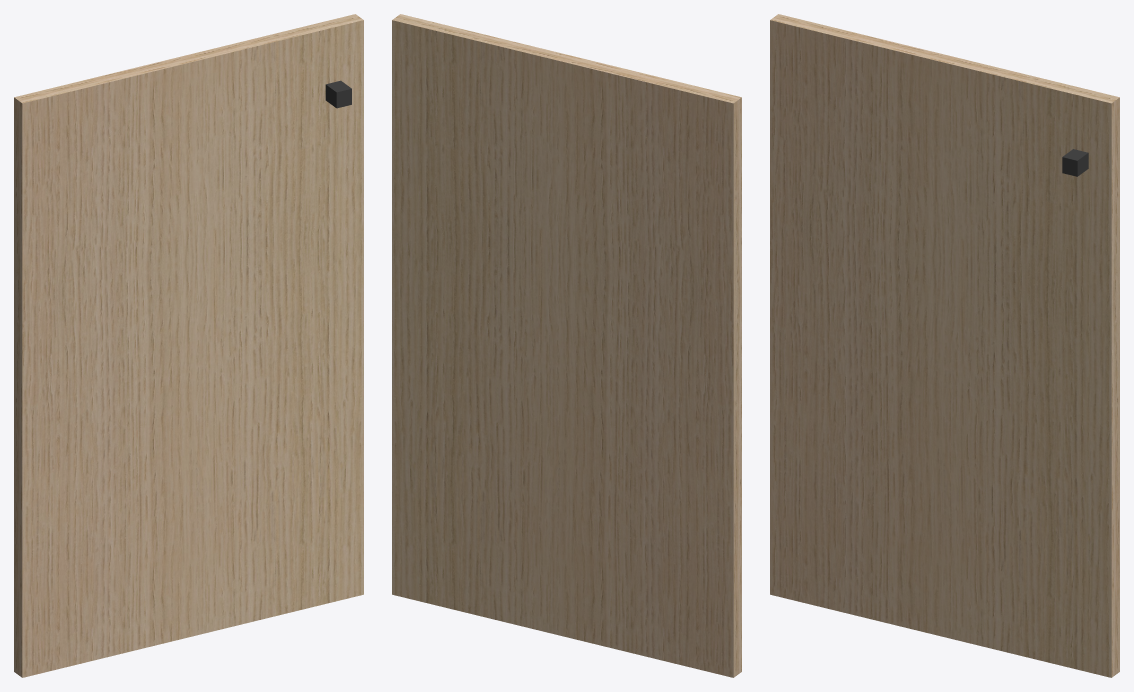
The model's file is Reol_venstre_skapdor_1.glb.
The picture shows the model from 3 angles, left to right: view 1: azimuth 30°, elevation 25°; view 2: azimuth 150°, elevation 25°; view 3: azimuth 330°, elevation 25°; orthographic projection.
Visible parts, largest first — view 1: 2025-284 Hylle reol; view 2: 2025-284 Hylle reol; view 3: 2025-284 Hylle reol.
Boxes of the visible parts, x1=… form: 2025-284 Hylle reol: x1=14, y1=14, x2=363, y2=677; 2025-284 Hylle reol: x1=392, y1=14, x2=741, y2=677; 2025-284 Hylle reol: x1=770, y1=14, x2=1119, y2=677.
Bounding box in the file's own units: 446 × 717 × 44.
2 materials, 1 textured.
